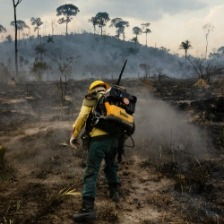pessoas: (63, 78, 148, 224)
